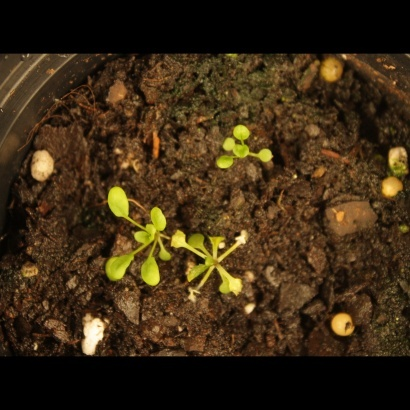leaf: (104, 248, 135, 285), (105, 185, 134, 221), (139, 253, 163, 287), (149, 200, 172, 235), (256, 144, 279, 167), (234, 121, 257, 144), (214, 155, 237, 178), (212, 131, 235, 154), (232, 140, 255, 163), (228, 276, 251, 299), (214, 279, 237, 302), (189, 230, 212, 253), (168, 229, 191, 252), (208, 228, 231, 251), (134, 223, 157, 246), (186, 262, 209, 285)
